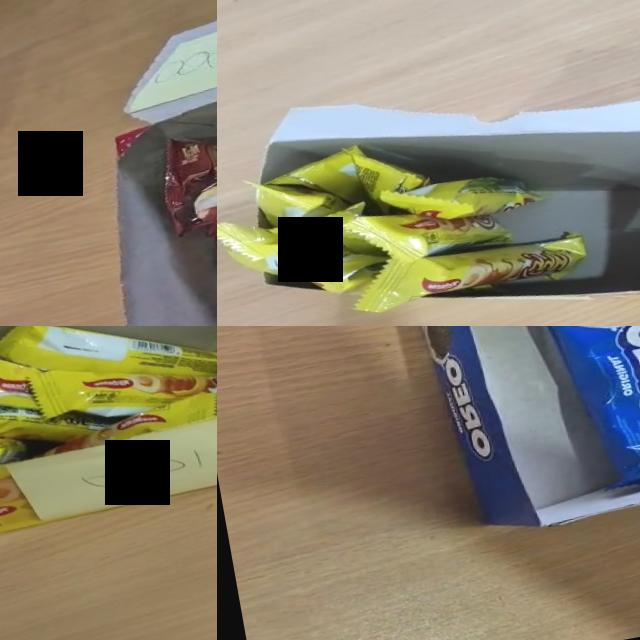Ahh: (342, 222, 590, 318), (0, 326, 217, 418), (23, 332, 217, 433), (338, 189, 512, 271), (29, 389, 217, 458), (380, 162, 548, 232), (0, 382, 124, 463), (257, 143, 376, 219), (217, 207, 311, 298), (241, 162, 353, 234), (265, 198, 379, 268), (281, 231, 394, 301), (344, 134, 432, 218), (0, 337, 49, 425)
Chocopie: (153, 115, 217, 242)
Oreo: (496, 326, 640, 505)
